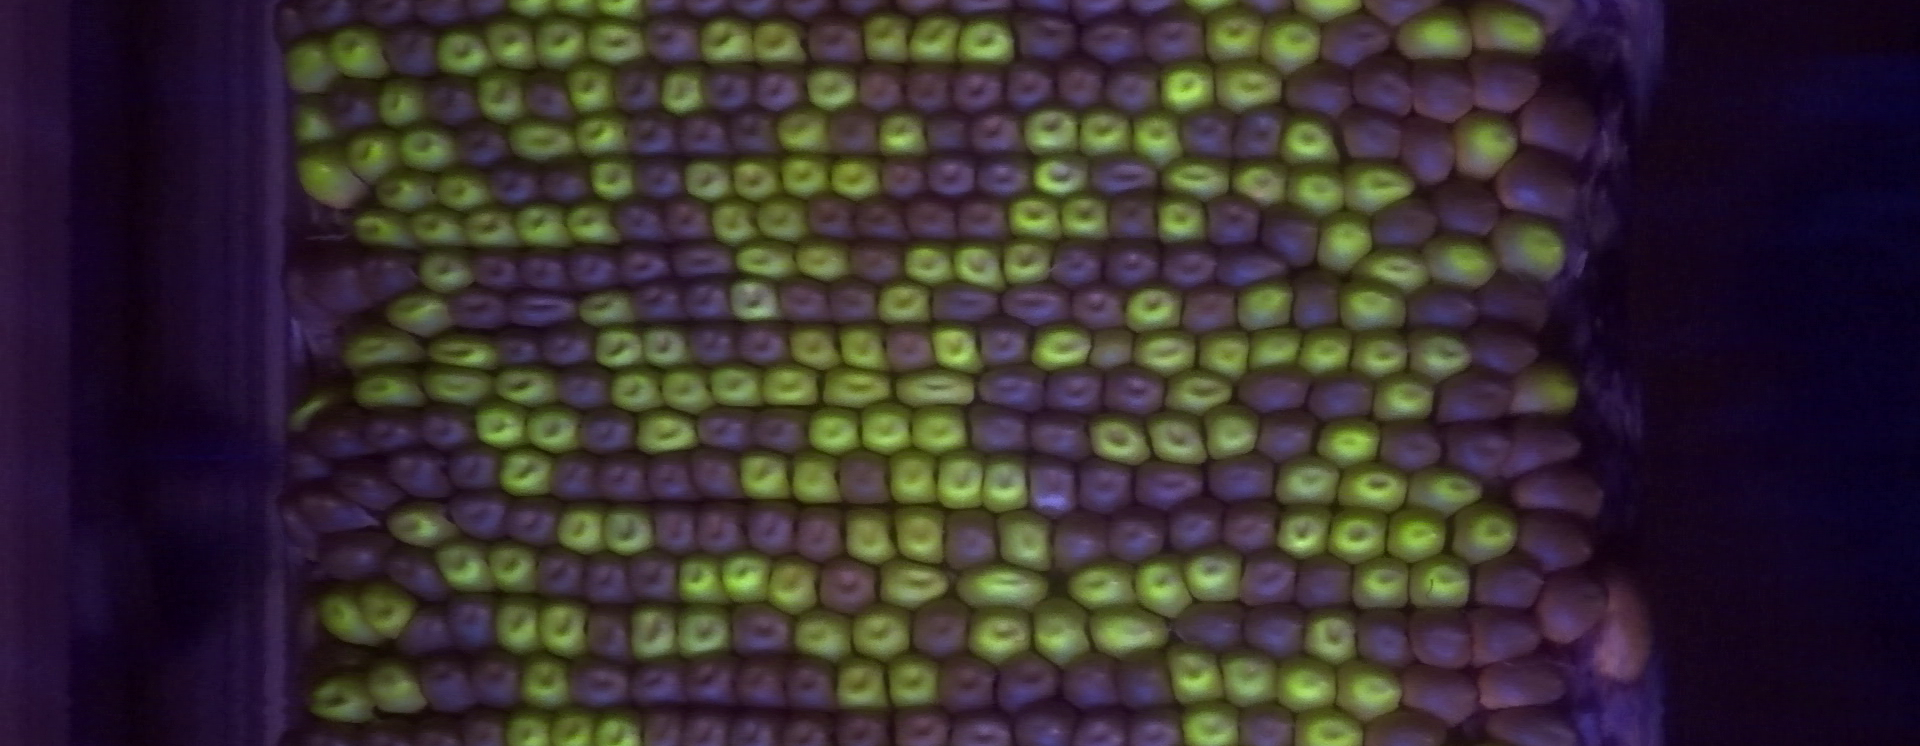fluorescent: (1483, 207, 1571, 288), (1498, 352, 1584, 428), (1416, 227, 1506, 299), (1449, 104, 1524, 187), (951, 559, 1058, 617), (311, 582, 392, 658), (1329, 650, 1409, 726), (288, 145, 376, 213), (1029, 594, 1102, 676), (1333, 153, 1422, 220), (1082, 600, 1176, 664), (1444, 497, 1524, 570), (336, 318, 433, 377), (358, 650, 437, 723), (1390, 4, 1479, 67), (987, 503, 1062, 578), (1460, 2, 1551, 62), (1401, 318, 1480, 387), (1331, 274, 1414, 339), (1160, 636, 1234, 708), (961, 599, 1038, 669), (425, 533, 504, 599), (1275, 107, 1354, 173), (1400, 461, 1489, 519), (1344, 241, 1438, 298), (1062, 557, 1149, 617), (1251, 9, 1327, 77), (873, 554, 954, 617), (1178, 539, 1251, 609), (845, 599, 920, 668), (353, 575, 427, 643), (1130, 549, 1198, 625), (1082, 407, 1161, 472), (381, 285, 464, 345), (1332, 458, 1416, 518), (376, 497, 467, 552), (885, 499, 955, 570), (340, 126, 414, 194), (1308, 412, 1389, 473), (1139, 405, 1213, 472), (416, 356, 503, 413), (302, 665, 382, 726), (1210, 56, 1289, 118), (1273, 649, 1343, 719), (1215, 642, 1284, 712), (1322, 499, 1393, 567), (618, 594, 684, 668), (1313, 207, 1379, 281), (1195, 398, 1269, 464), (1280, 158, 1354, 223), (667, 598, 743, 661), (1400, 551, 1476, 615), (1116, 278, 1193, 341), (345, 360, 435, 414), (1297, 601, 1365, 671), (1271, 450, 1344, 514), (533, 592, 596, 666), (1363, 369, 1444, 428), (1270, 499, 1340, 566), (836, 500, 902, 571), (1382, 502, 1453, 568), (1347, 552, 1418, 619), (760, 551, 825, 624), (730, 446, 803, 510), (1199, 4, 1269, 70), (880, 649, 951, 714), (503, 110, 582, 169), (949, 9, 1022, 71), (421, 323, 504, 379), (816, 363, 899, 418), (789, 605, 862, 668), (519, 399, 594, 461), (1224, 274, 1302, 333), (516, 649, 580, 719), (322, 23, 396, 85), (1153, 365, 1240, 416), (1127, 323, 1207, 379), (1155, 51, 1221, 119), (476, 11, 545, 76), (1153, 153, 1238, 206), (830, 650, 896, 717), (389, 119, 465, 176), (1340, 326, 1416, 383), (1018, 100, 1086, 164), (467, 396, 538, 457), (1224, 152, 1296, 213), (529, 12, 595, 77), (882, 446, 947, 512), (468, 64, 535, 127), (855, 396, 922, 459), (1127, 105, 1189, 174), (947, 235, 1016, 296), (905, 401, 977, 459), (975, 452, 1040, 517), (1025, 318, 1100, 375), (672, 551, 743, 610), (509, 197, 583, 254), (492, 590, 549, 664), (279, 33, 343, 98), (598, 499, 664, 561), (696, 11, 763, 72), (924, 320, 994, 379), (629, 403, 705, 457), (495, 440, 558, 503), (481, 534, 545, 598), (1151, 189, 1216, 251), (716, 545, 781, 608), (1191, 323, 1256, 386), (373, 70, 440, 131), (869, 276, 943, 331), (785, 443, 846, 510), (347, 207, 425, 258), (432, 23, 502, 81), (932, 445, 989, 514), (280, 386, 351, 442), (891, 366, 984, 409), (405, 201, 478, 256), (550, 499, 613, 561), (560, 58, 624, 119), (1293, 321, 1358, 382), (803, 401, 869, 461), (583, 12, 651, 70), (771, 103, 840, 160), (1003, 189, 1071, 246), (490, 360, 566, 412), (1075, 104, 1139, 165), (729, 236, 808, 285), (458, 201, 530, 255), (1026, 149, 1096, 205), (702, 359, 771, 414), (855, 7, 917, 69), (564, 109, 634, 163), (756, 359, 825, 413), (707, 194, 768, 255), (656, 359, 718, 420), (744, 16, 816, 69), (604, 361, 670, 418), (433, 162, 501, 217), (588, 318, 655, 374), (676, 154, 744, 208), (369, 168, 442, 218), (902, 9, 962, 70), (727, 149, 789, 209), (775, 148, 839, 206), (1056, 189, 1119, 246), (720, 274, 795, 323), (573, 282, 644, 333), (791, 230, 857, 285), (1240, 320, 1307, 375), (797, 60, 864, 114), (782, 321, 851, 374), (831, 320, 896, 375), (415, 245, 486, 295), (998, 232, 1058, 290), (899, 235, 961, 292), (1289, 702, 1369, 746), (560, 198, 629, 249), (752, 192, 817, 246), (1174, 699, 1249, 746), (873, 107, 936, 162), (637, 318, 700, 372), (658, 59, 714, 119), (283, 100, 345, 153), (825, 152, 887, 205), (584, 151, 640, 207), (544, 699, 606, 746), (588, 704, 651, 746), (501, 706, 556, 746)
nonfluorescent: (1532, 565, 1615, 652), (1591, 572, 1652, 687), (1453, 595, 1545, 670), (1468, 258, 1551, 339), (1495, 148, 1582, 225), (1472, 653, 1566, 720), (1390, 657, 1480, 726), (1502, 464, 1608, 524), (984, 646, 1067, 718), (1489, 418, 1580, 481), (1509, 507, 1596, 571), (1422, 174, 1505, 240), (1453, 49, 1536, 115), (302, 234, 366, 318), (1453, 323, 1543, 382), (1349, 601, 1420, 675), (1128, 452, 1212, 513), (1003, 4, 1084, 67), (1238, 593, 1308, 666), (1056, 648, 1130, 717), (1404, 54, 1478, 122), (1398, 277, 1480, 338), (302, 401, 380, 465), (377, 445, 460, 505), (1433, 370, 1512, 432), (1344, 50, 1416, 120), (1251, 198, 1322, 268), (1200, 451, 1283, 510), (725, 598, 801, 661), (1164, 595, 1250, 652), (500, 283, 580, 342), (1469, 550, 1547, 611), (1513, 93, 1596, 151), (936, 505, 1005, 572), (287, 485, 380, 535), (1433, 413, 1507, 475), (620, 650, 689, 717), (1404, 604, 1476, 669), (411, 650, 476, 722), (1108, 647, 1179, 712), (1073, 13, 1151, 72), (354, 243, 421, 310), (921, 273, 1003, 328), (927, 653, 999, 715), (1314, 12, 1393, 69), (1374, 416, 1449, 477), (907, 595, 975, 661), (509, 238, 579, 301), (800, 10, 872, 71), (1400, 111, 1461, 184), (1206, 244, 1292, 295), (962, 399, 1036, 459), (811, 556, 884, 616), (465, 648, 524, 723), (1233, 546, 1299, 612), (1291, 549, 1354, 617), (1234, 363, 1315, 416), (324, 454, 405, 508), (1367, 194, 1439, 254), (1085, 147, 1163, 202), (971, 359, 1049, 414), (1299, 367, 1373, 426), (1286, 56, 1353, 120), (590, 445, 658, 508), (637, 11, 707, 72), (1138, 7, 1207, 69), (1097, 363, 1168, 423), (1201, 186, 1266, 251), (384, 540, 451, 604), (620, 546, 683, 612), (1337, 100, 1404, 163), (318, 530, 398, 583), (1284, 265, 1344, 334), (682, 443, 749, 505), (851, 187, 920, 247), (725, 316, 793, 376), (389, 599, 449, 668), (779, 650, 839, 719), (1024, 451, 1082, 521), (731, 650, 790, 720), (998, 279, 1074, 333), (1032, 363, 1108, 416), (602, 192, 676, 247), (1177, 281, 1244, 341), (1071, 457, 1139, 517), (564, 653, 633, 712), (443, 592, 501, 661), (965, 148, 1036, 205), (444, 282, 516, 338), (1174, 100, 1239, 162), (972, 314, 1037, 375), (377, 22, 443, 82), (680, 650, 740, 717), (530, 314, 598, 372), (744, 402, 812, 461), (948, 190, 1018, 246), (568, 404, 638, 461), (642, 447, 704, 510), (1096, 233, 1161, 293), (1044, 234, 1111, 293), (411, 397, 478, 456), (442, 488, 516, 540), (323, 73, 384, 136), (1104, 503, 1168, 563), (945, 59, 1010, 118), (1356, 706, 1456, 744), (416, 73, 484, 130), (578, 603, 634, 670), (872, 318, 942, 372), (517, 65, 580, 124), (741, 496, 800, 560), (1051, 510, 1109, 573), (564, 240, 624, 301), (1166, 492, 1226, 554), (1232, 102, 1291, 164), (899, 191, 964, 247), (838, 240, 910, 290), (1106, 186, 1164, 247), (835, 450, 894, 511), (549, 445, 606, 507), (688, 402, 758, 453), (696, 58, 759, 114), (501, 492, 564, 549), (606, 61, 671, 116), (775, 272, 834, 332), (1220, 495, 1281, 552), (529, 543, 587, 604), (609, 239, 675, 292), (1022, 409, 1090, 461), (746, 58, 804, 116), (534, 149, 593, 208), (791, 503, 849, 563), (572, 548, 629, 608), (551, 356, 613, 412), (1232, 696, 1303, 744), (825, 274, 882, 334), (1069, 277, 1129, 333), (1153, 236, 1215, 292), (361, 401, 424, 454), (1100, 59, 1163, 111), (1251, 412, 1318, 462), (803, 187, 860, 246), (673, 273, 732, 330), (666, 239, 737, 285), (893, 62, 954, 116), (966, 100, 1027, 154), (622, 107, 684, 159), (626, 277, 688, 330), (441, 441, 504, 492), (684, 317, 744, 371), (692, 496, 746, 556), (722, 107, 784, 159), (656, 192, 718, 245), (1011, 699, 1084, 744), (825, 104, 882, 160), (998, 59, 1056, 114), (642, 499, 700, 552), (485, 152, 545, 205), (484, 321, 546, 371), (846, 60, 906, 111), (469, 243, 525, 296), (920, 100, 973, 156), (942, 707, 1022, 744), (676, 109, 733, 160), (628, 148, 687, 198), (920, 149, 978, 200), (1049, 59, 1109, 107), (827, 706, 900, 744), (1067, 706, 1140, 744), (868, 149, 924, 197), (883, 706, 955, 742), (631, 702, 688, 745), (1123, 708, 1191, 744), (456, 120, 511, 164), (771, 707, 838, 744), (721, 708, 789, 744), (676, 704, 735, 745), (280, 441, 328, 490)
